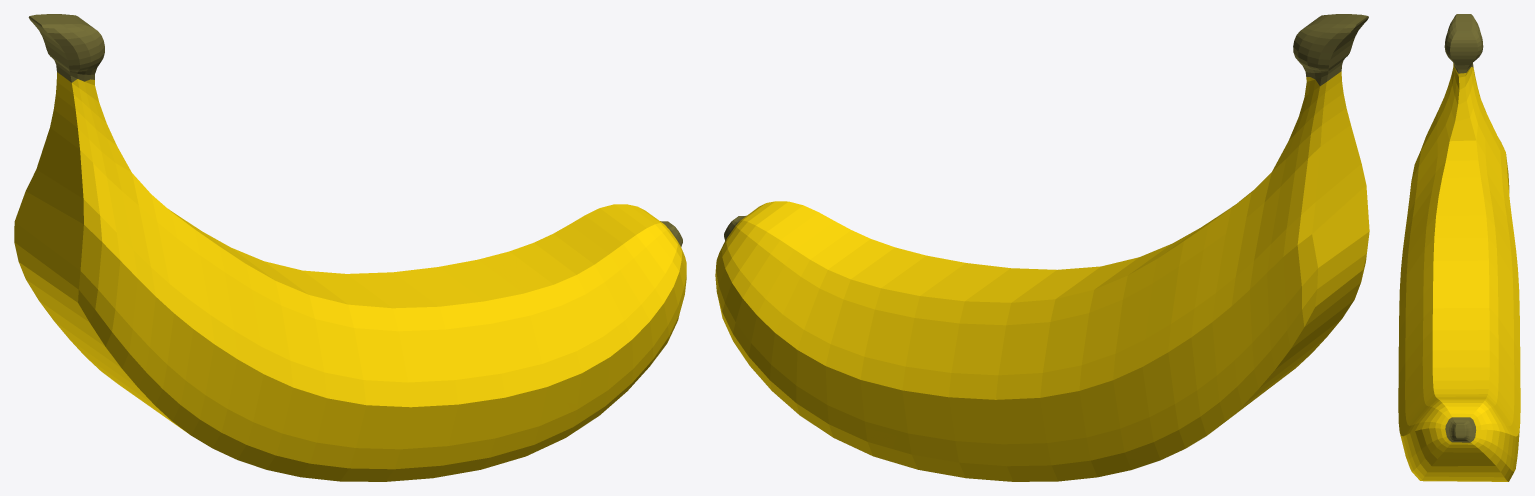
The model's file is banana.fbx.
The picture shows the model from 3 angles, left to right: view 1: azimuth 30°, elevation 25°; view 2: azimuth 150°, elevation 25°; view 3: azimuth 270°, elevation 25°; orthographic projection. The views are drawn at different scales.
Visible parts, largest first — view 1: banana.001; view 2: banana.001; view 3: banana.001.
Part boxes in pixels (<box>): banana.001: <box>14,14,686,481</box>; banana.001: <box>715,14,1369,481</box>; banana.001: <box>1398,14,1520,481</box>.
Bounding box in the file's own units: 586 × 457 × 156.
